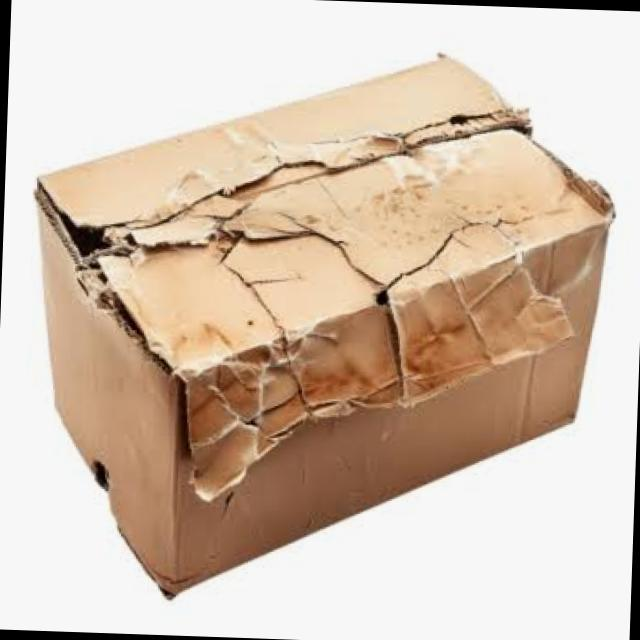carton_box: (11, 30, 640, 628)
package_damage: (18, 165, 372, 408), (246, 85, 555, 212), (540, 148, 630, 239)
